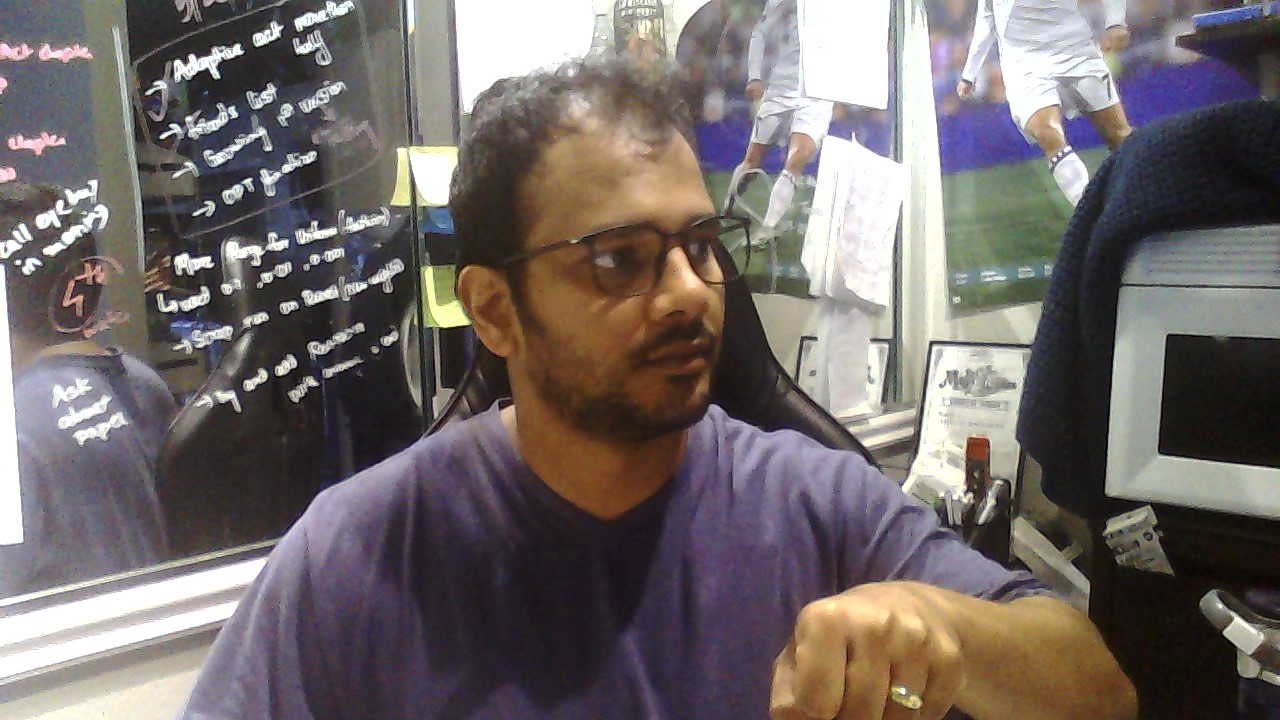Yes: (770, 585, 969, 720)
